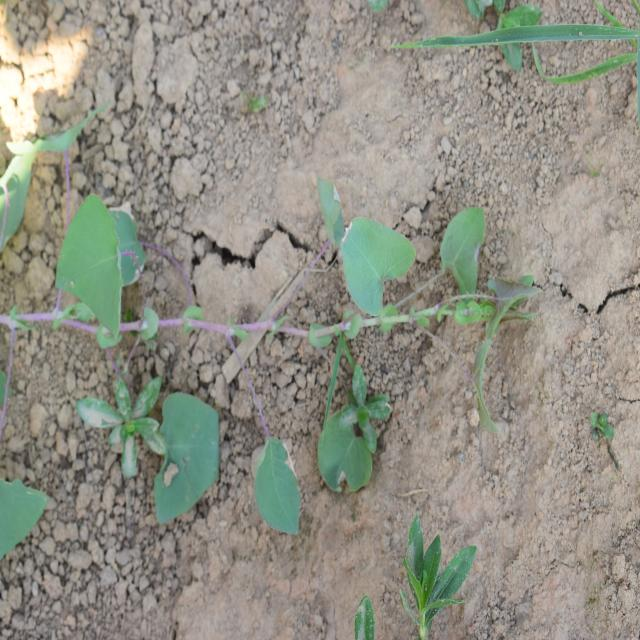Asiatic_Smartweed: (330, 200, 538, 433), (2, 106, 162, 332), (154, 391, 303, 534)
